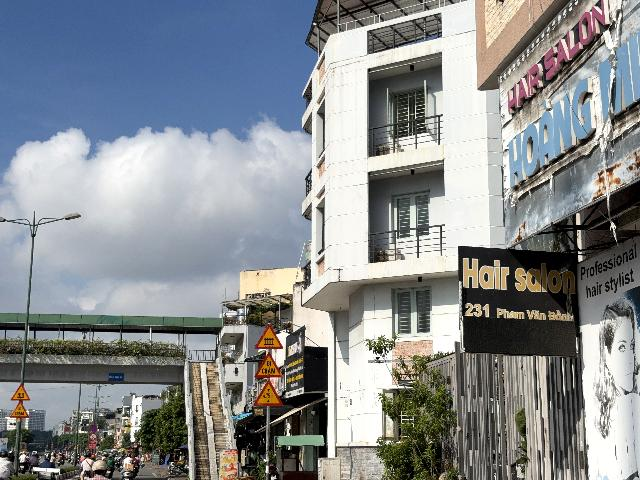chieu-cao-tinh-khong-thuc-te: (253, 380, 284, 406)
di-cham: (254, 352, 283, 378), (10, 401, 29, 418)
noi-giao-nhau-voi-duong-sat-co-rao-chan: (255, 324, 283, 349), (11, 383, 31, 401)
